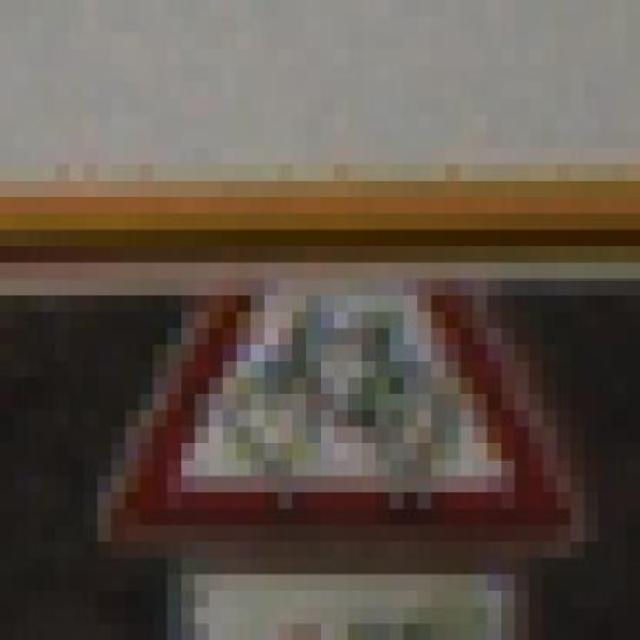CYCLE ROUTE AHEAD WARNING: (56, 296, 626, 558)
